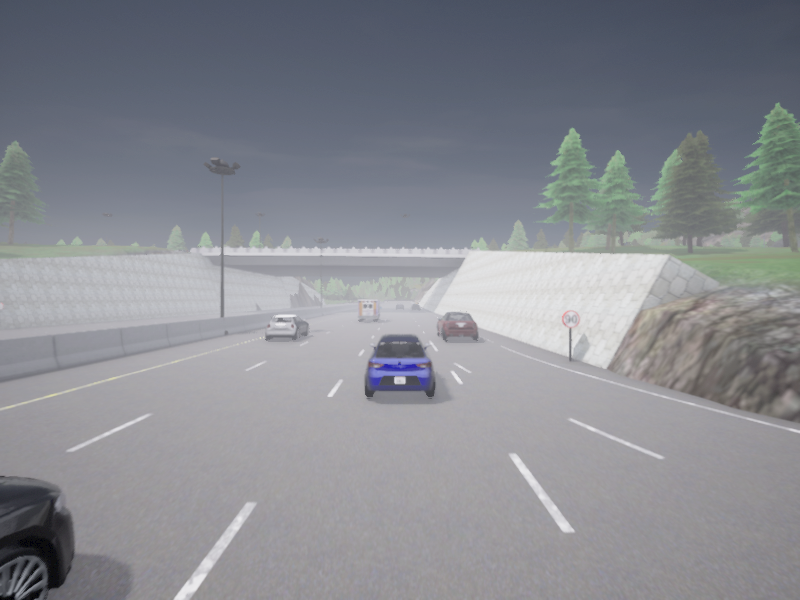vehicle: (0, 476, 74, 599), (364, 334, 435, 397), (437, 312, 478, 340), (265, 315, 308, 339), (358, 300, 381, 320), (411, 304, 419, 310), (396, 304, 403, 308)
